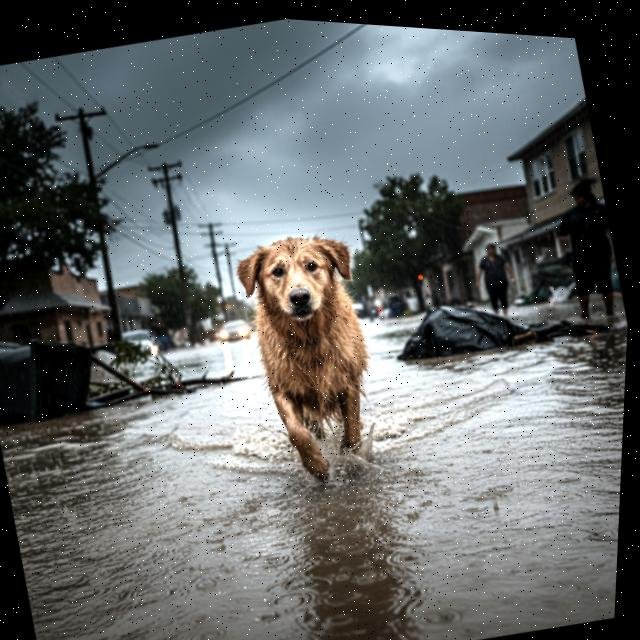civilian: (539, 170, 633, 335), (464, 229, 526, 325)
dog: (211, 201, 420, 511)
